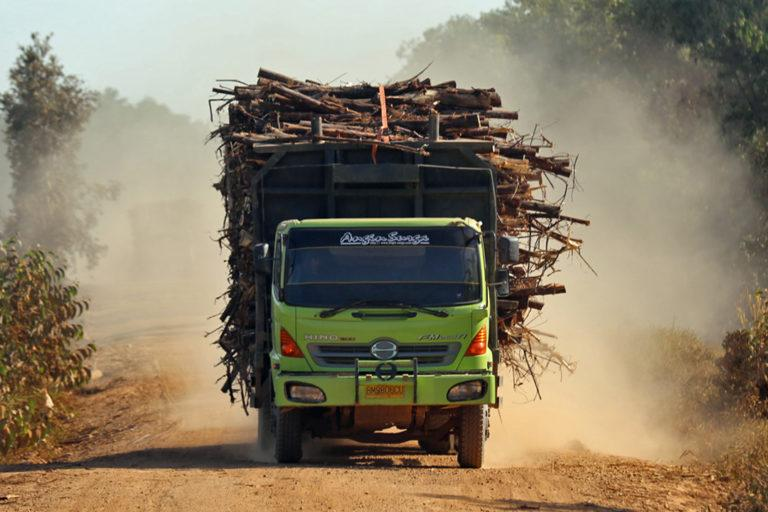truck: (255, 159, 497, 467)
